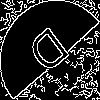D: (25, 25, 78, 83)
